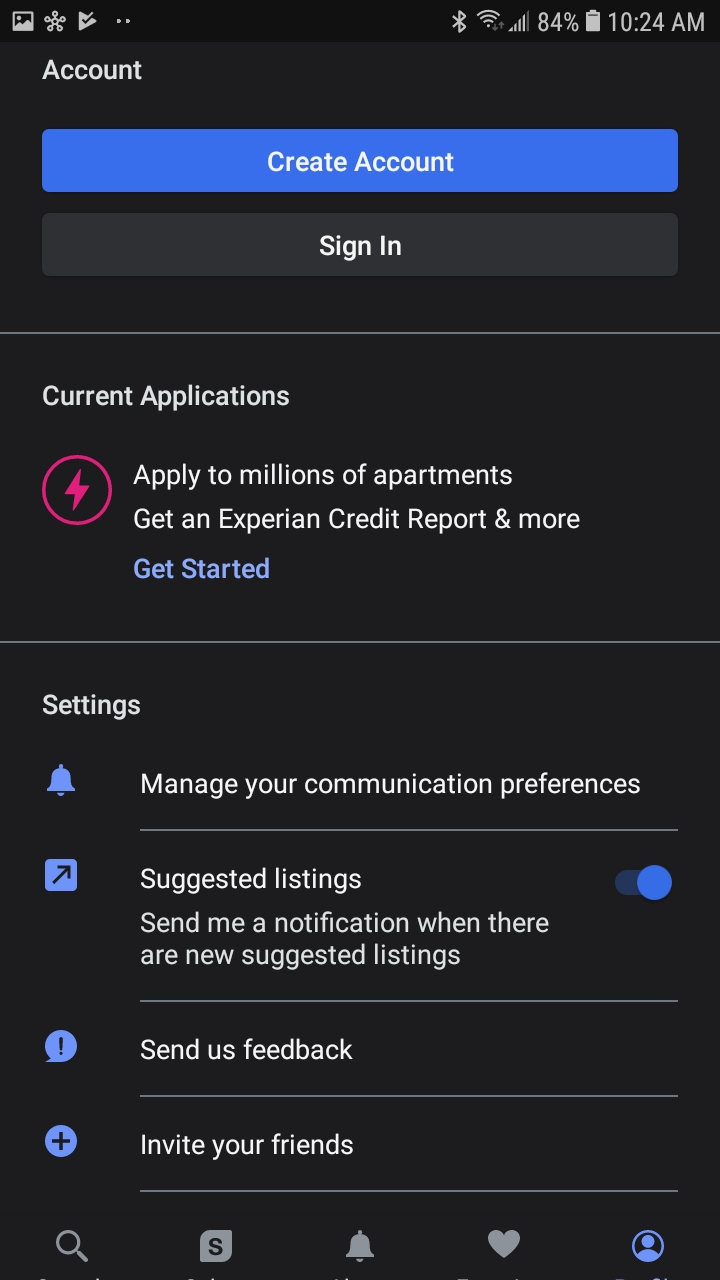Icon: (56, 1229, 90, 1263), (632, 1230, 665, 1263), (46, 1125, 79, 1158), (46, 1030, 79, 1063), (45, 859, 78, 892), (488, 1229, 521, 1259), (346, 1230, 375, 1263), (48, 764, 76, 796)
Image: (42, 455, 114, 527), (200, 1229, 233, 1263)
Switch: (614, 864, 673, 901)
Text: (141, 867, 549, 970), (133, 464, 581, 534), (141, 772, 641, 800), (43, 384, 290, 412), (142, 1133, 354, 1161), (141, 1037, 353, 1060), (134, 558, 269, 580), (44, 694, 141, 720), (43, 60, 143, 81)
TextButton: (43, 213, 679, 277), (43, 129, 679, 193)
UpperTaskBar: (1, 1, 720, 43)
